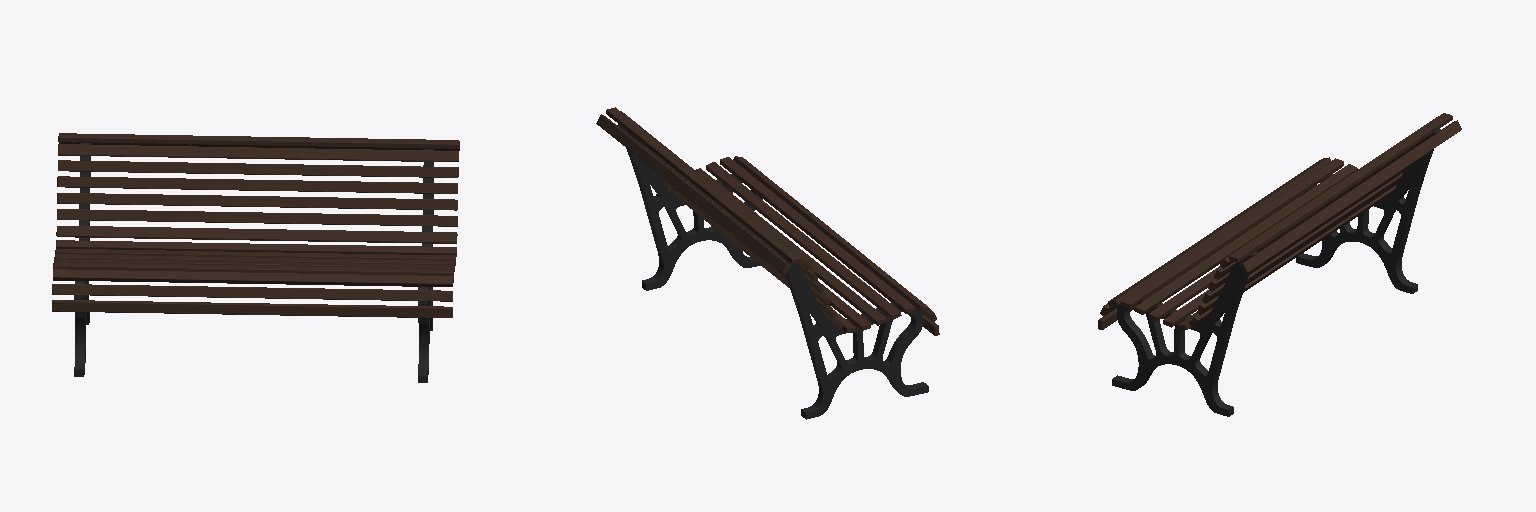
File: banca.obj
3 views of the same model, side by side, from view 1: azimuth 30°, elevation 25°; view 2: azimuth 150°, elevation 25°; view 3: azimuth 270°, elevation 25° (orthographic).
Parts seen in each view (by area): view 1: ChamferBo2, ChamferBo7, ChamferB12, ChamferBo4, ChamferB10, ChamferB11, ChamferBo3, ChamferBo9, ChamferBo8, ChamferB13, ChamferBo6, ChamferBo5 (+6 smaller); view 2: Shape02, Shape03, ChamferB14, ChamferBo1, ChamferBo5, ChamferB13, ChamferBo4, ChamferBo0, ChamferBo8, ChamferBo7, ChamferBox; view 3: Shape03, Shape02, ChamferB14, ChamferBo5, ChamferB13, ChamferBo1, ChamferBo4, ChamferBo8, ChamferBo7, ChamferBo0, ChamferBo9, ChamferB11.
Part boxes in pixels (x1,y1,x2,y2): ChamferBo2: (52, 300, 452, 317); ChamferBo7: (56, 226, 457, 243); ChamferB12: (58, 144, 458, 161); ChamferBo4: (53, 269, 453, 286); ChamferB10: (57, 176, 457, 193); ChamferB11: (58, 160, 458, 177); ChamferBo3: (52, 284, 452, 301); ChamferBo9: (57, 193, 457, 210); ChamferBo8: (57, 209, 457, 226); ChamferB13: (58, 133, 459, 148); ChamferBo6: (56, 240, 456, 256); ChamferBo5: (53, 262, 453, 275); Shape02: (777, 253, 928, 419); Shape03: (617, 124, 762, 290); ChamferB14: (596, 114, 790, 274); ChamferBo1: (706, 162, 901, 319); ChamferBo5: (720, 157, 914, 313); ChamferB13: (606, 107, 801, 263); ChamferBo4: (733, 156, 928, 311); ChamferBo0: (695, 168, 886, 325); ChamferBo8: (659, 175, 835, 317); ChamferBo7: (663, 182, 843, 328); ChamferBox: (817, 280, 870, 330); Shape03: (1112, 251, 1257, 416); Shape02: (1296, 129, 1440, 293); ChamferB14: (1240, 120, 1461, 273); ChamferBo5: (1121, 158, 1343, 308); ChamferB13: (1229, 113, 1452, 262); ChamferBo1: (1134, 164, 1357, 314); ChamferBo4: (1108, 157, 1330, 306); ChamferBo8: (1197, 173, 1402, 315); ChamferBo7: (1189, 185, 1396, 326); ChamferBo0: (1148, 266, 1220, 321); ChamferBo9: (1202, 168, 1404, 303); ChamferB11: (1214, 144, 1416, 279).
Size of the model in its own units: 21.15 by 9.36 by 17.77.